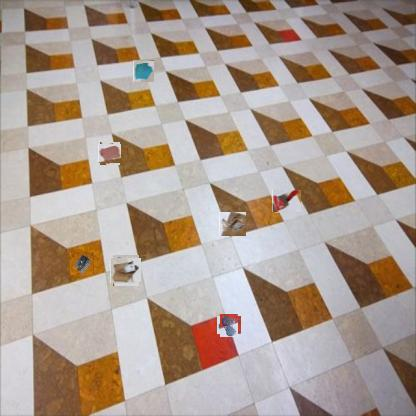dirty: (112, 256, 140, 285), (219, 212, 246, 236), (272, 190, 301, 212), (70, 252, 93, 274), (133, 60, 154, 82)
liquid: (99, 143, 121, 164), (219, 315, 239, 335)
